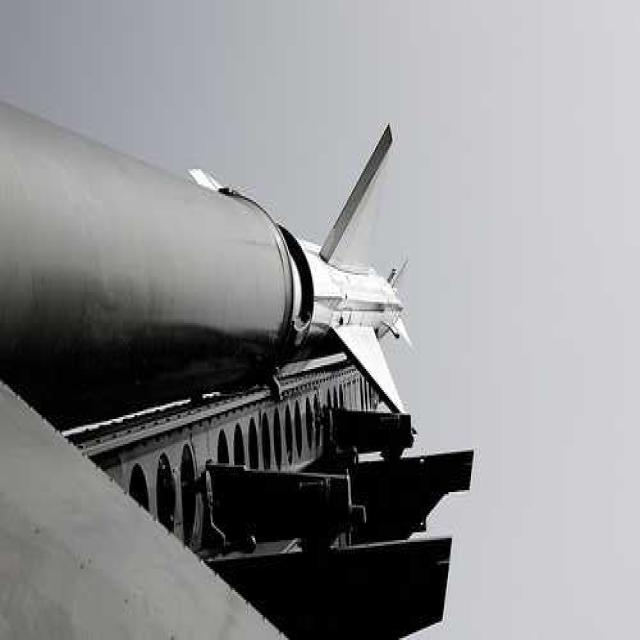missile: (192, 118, 417, 410)
